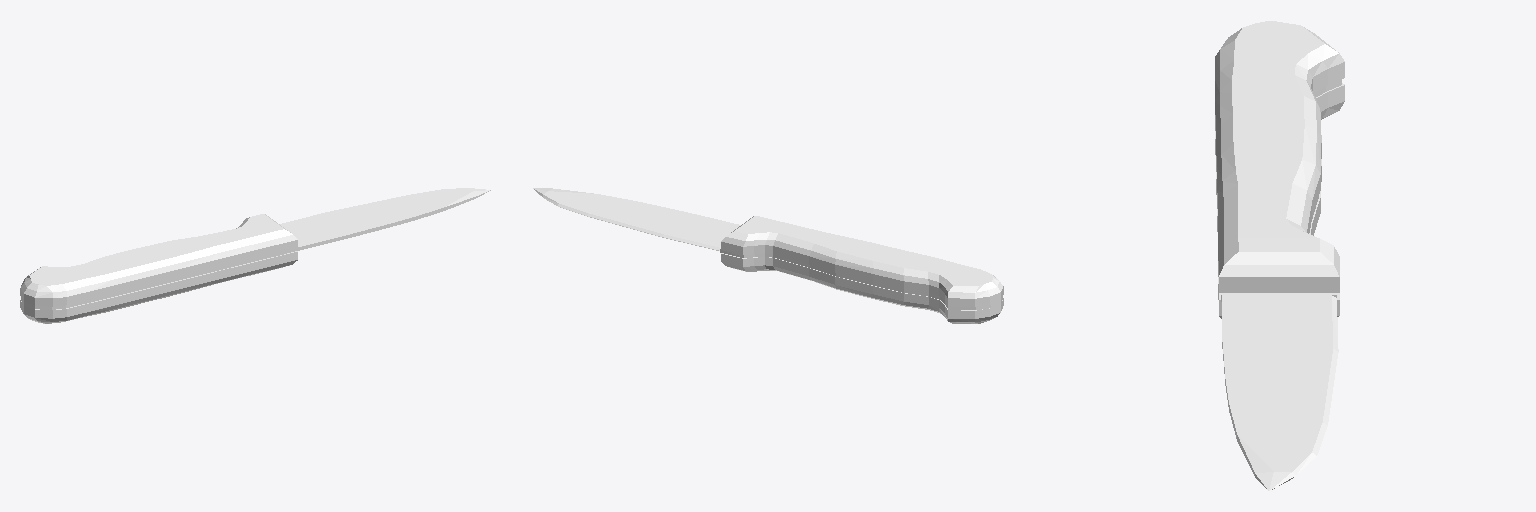
The robot description file, URDF, robot "knife":
<?xml version="0.0" ?>
<robot name="knife">
  <link name="base">
    <inertial>
        <origin rpy="0 0 0" xyz="0 0 0"/>
        <mass value="1.0"/>
        <inertia ixx="1" ixy="0" ixz="0" iyy="1" iyz="0" izz="1"/>
    </inertial>
   <visual>
     <origin rpy="0 0 0" xyz="0 0 0"/>
     <geometry>
       <mesh filename="knife.obj" scale="1 1 1"/>
     </geometry>
      <material name="white">
       <color rgba="1 1 1 1"/>
     </material>
   </visual>
   <collision>
     <origin rpy="0 0 0" xyz="0 0 0"/>
     <geometry>
       <mesh filename="knife_vhacd.obj" scale="1 1 1"/>
     </geometry>
   </collision>
  </link>
  <link name="grasp">
    <inertial>
      <origin rpy="0 0 0" xyz="0 0 0"/>
       <mass value="0.0"/>
       <inertia ixx="1" ixy="0" ixz="0" iyy="1" iyz="0" izz="1"/>
    </inertial>
  </link>
  <joint name="base__grasp" type="fixed">
    <origin xyz="-0.05 0.0 0.0" rpy="0.0 0.0 0.0"/>
    <parent link="base"/>
    <child link="grasp"/>
  </joint>
</robot>

--- Render facts (derived) ---
3 views of the same robot in one strip: view 1: azimuth 30°, elevation 25°; view 2: azimuth 150°, elevation 25°; view 3: azimuth 270°, elevation 25° (orthographic).
Model knife with 2 links and 1 joints (1 fixed), rooted at base, posed every joint at zero.
Visible links, largest first — view 1: base; view 2: base; view 3: base.
Boxes of the visible links, left/top/right/bottom form: base: left=20, top=188, right=490, bottom=323; base: left=533, top=188, right=1003, bottom=323; base: left=1215, top=21, right=1344, bottom=490.
Size in the robot's own frame: 0.3 by 0.0374 by 0.0234 metres.
1 mesh visuals loaded from 1 distinct referenced files (1 OBJ).